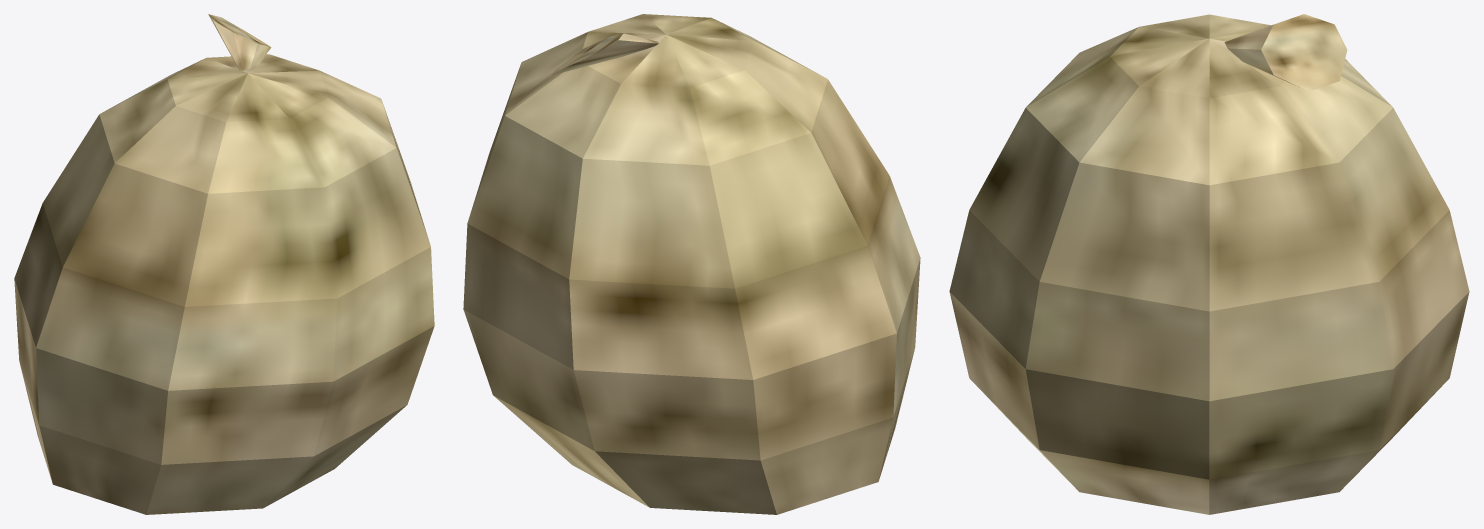
Rendered from sack1.fbx.
3 renders of one model, left to right at view 1: azimuth 30°, elevation 25°; view 2: azimuth 150°, elevation 25°; view 3: azimuth 270°, elevation 25°, orthographic. The views are drawn at different scales.
Parts seen in each view (by area): view 1: Sphere; view 2: Sphere; view 3: Sphere.
Boxes of the visible parts, x1,y1,x2,y2 form: Sphere: [14, 14, 434, 514]; Sphere: [463, 14, 920, 514]; Sphere: [949, 14, 1469, 514].
Bounding box in the file's own units: 200 × 205 × 200.
